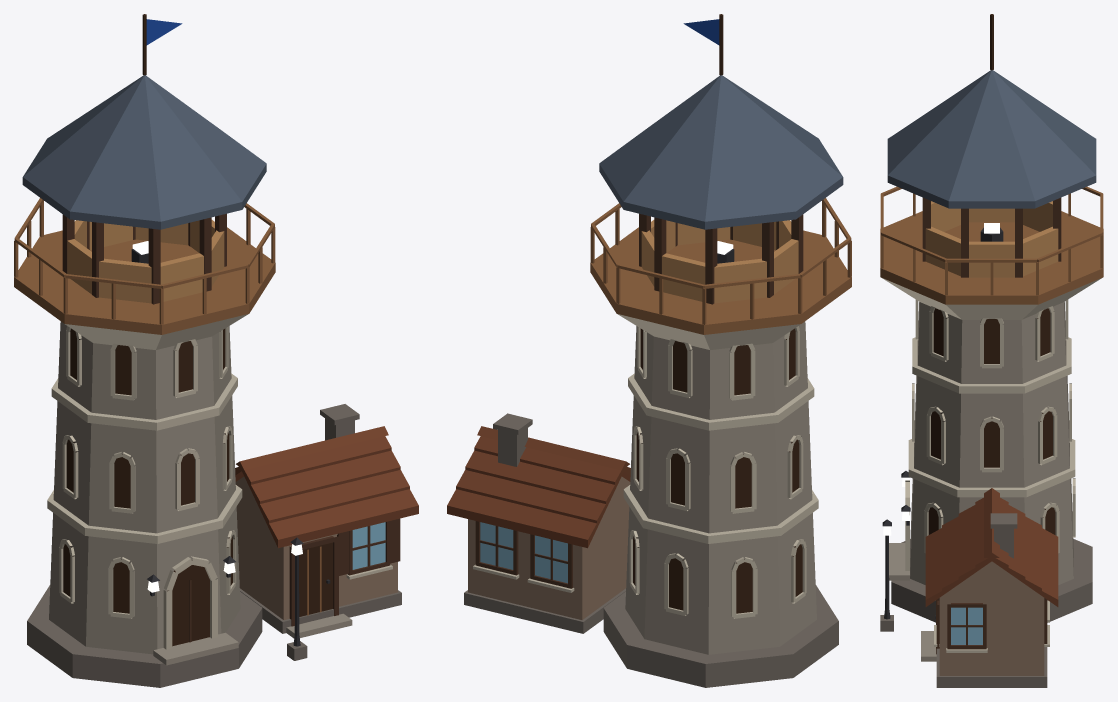
Rendered from watchtower.fbx.
3 views of the same model, side by side, from view 1: azimuth 30°, elevation 25°; view 2: azimuth 150°, elevation 25°; view 3: azimuth 270°, elevation 25° (orthographic). The views are drawn at different scales.
Visible parts, largest first — view 1: watchtower; view 2: watchtower; view 3: watchtower.
Part boxes in pixels (x1,y1,x2,y2): watchtower: (14,14,418,687); watchtower: (447,14,851,687); watchtower: (880,14,1103,687).
Size of the model in its own units: 9.07 by 15.65 by 5.54.
